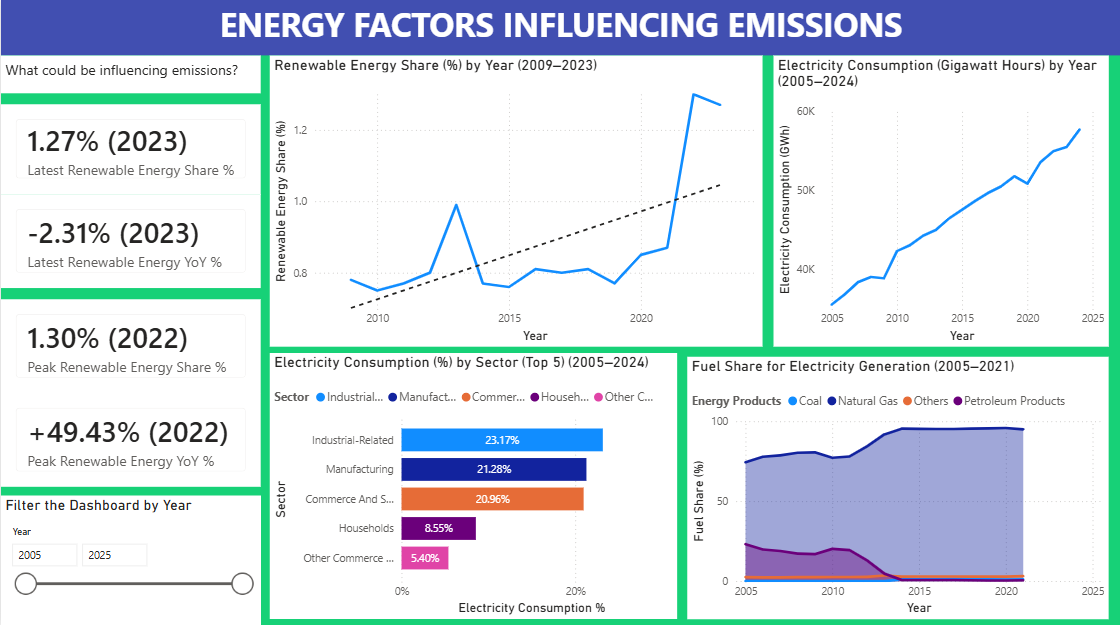

What the dashboard file says about the page in this screenshot:
{"tool":"powerbi","page":{"name":"Influencial Factors","canvas":[1280,720],"ordinal":1},"visuals":[{"type":"textbox","box":[0,0,1280,65.7],"z":0},{"type":"cardVisual","fields":{"Data":["renewable_energy_share.Latest Renewable Energy Share %"]},"box":[0,121.4,297.1,102.9],"z":1000},{"type":"textbox","box":[0,65.7,297.1,42.9],"z":2000},{"type":"cardVisual","fields":{"Data":["renewable_energy_share.Latest Renewable Energy YoY %"]},"box":[0,224.3,297.1,107.1],"z":3000},{"type":"lineChart","fields":{"Category":["renewable_energy_share.year"],"Y":["Sum(renewable_energy_share.value)"]},"box":[307.1,77.1,562.9,321.4],"z":4000},{"type":"barChart","fields":{"Y":["elec_gen_and_consump_sector.Electricity Consumption Share %"],"Category":["elec_gen_and_consump_sector.data_series"],"Series":["elec_gen_and_consump_sector.data_series"]},"box":[307.1,405.7,465.7,304.3],"z":5000},{"type":"areaChart","fields":{"Category":["fuel_mix_elec_gen.year"],"Y":["Sum(fuel_mix_elec_gen.percentage)"],"Series":["fuel_mix_elec_gen.energy_products"]},"box":[784.3,410,481.4,300],"z":6000},{"type":"lineChart","fields":{"Category":["elec_gen_and_consump_total.year"],"Y":["Sum(elec_gen_and_consump_total.value)"]},"box":[882.9,77.1,382.9,321.4],"z":7000},{"type":"cardVisual","fields":{"Data":["renewable_energy_share.Peak Renewable Energy Share %"]},"box":[0,344.3,297.1,107.1],"z":8000},{"type":"cardVisual","fields":{"Data":["renewable_energy_share.Peak Renewable Energy YoY %"]},"box":[0,451.4,297.1,107.1],"z":9000},{"type":"slicer","title":"Filter the Dashboard by Year","fields":{"Values":["DimYear2.year"]},"box":[0,568.6,297.1,141.4],"z":10000}]}

Visuals, with their boxes in screenshot pixels (x1, y1, x2, y2), scaled from the page's 1280x720 canvas onto the 1120x625 screenshot:
textbox: box=[0, 0, 1119, 57]
cardVisual - renewable_energy_share.Latest Renewable Energy Share %: box=[0, 105, 260, 195]
textbox: box=[0, 57, 260, 94]
cardVisual - renewable_energy_share.Latest Renewable Energy YoY %: box=[0, 195, 260, 288]
lineChart - renewable_energy_share.year x Sum(renewable_energy_share.value): box=[269, 67, 761, 346]
barChart - elec_gen_and_consump_sector.Electricity Consumption Share % x elec_gen_and_consump_sector.data_series: box=[269, 352, 676, 616]
areaChart - fuel_mix_elec_gen.year x Sum(fuel_mix_elec_gen.percentage): box=[686, 356, 1107, 616]
lineChart - elec_gen_and_consump_total.year x Sum(elec_gen_and_consump_total.value): box=[773, 67, 1108, 346]
cardVisual - renewable_energy_share.Peak Renewable Energy Share %: box=[0, 299, 260, 392]
cardVisual - renewable_energy_share.Peak Renewable Energy YoY %: box=[0, 392, 260, 485]
"Filter the Dashboard by Year" slicer: box=[0, 494, 260, 616]
